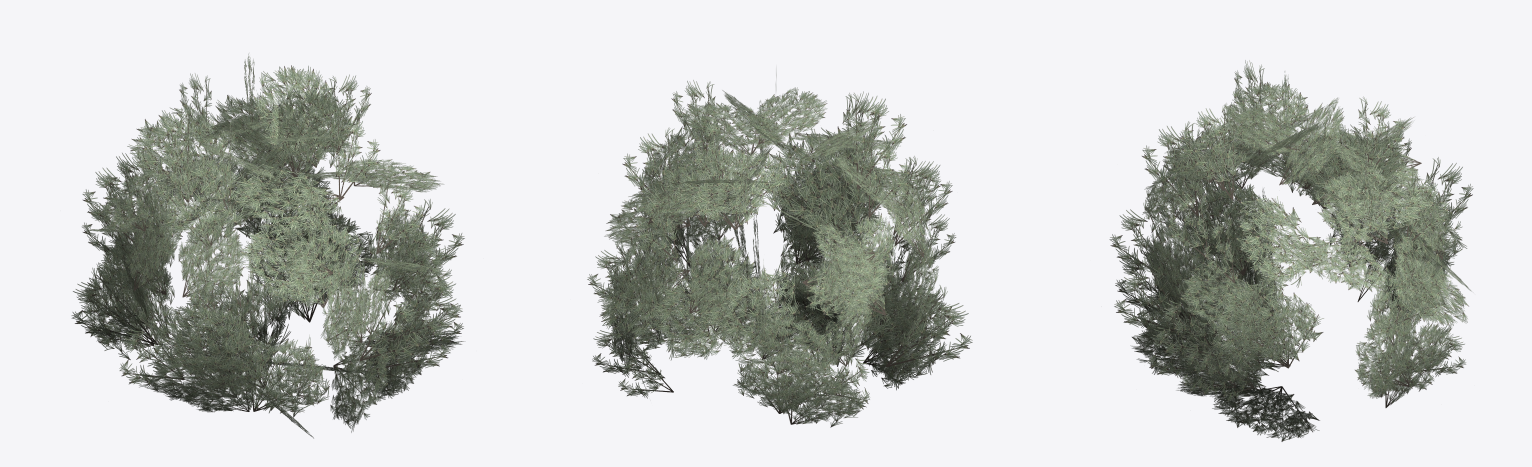
File: sage.glb
The picture shows the model from 3 angles, left to right: view 1: azimuth 30°, elevation 25°; view 2: azimuth 150°, elevation 25°; view 3: azimuth 270°, elevation 25°; orthographic projection. The views are drawn at different scales.
Visible parts, largest first — view 1: sage_lod0; view 2: sage_lod0; view 3: sage_lod0.
Boxes of the visible parts, box(x1,y1,x2,y2) form: sage_lod0: box(71, 54, 464, 438); sage_lod0: box(587, 72, 972, 427); sage_lod0: box(1109, 60, 1473, 441).
Size of what is drawn, in the model's own units: 1.56 by 1.16 by 1.48.
1 material, 1 textured.
